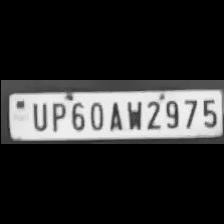0: (85, 98, 105, 130)
2: (142, 97, 162, 130)
5: (198, 96, 218, 130)
6: (66, 99, 86, 131)
7: (180, 96, 198, 130)
9: (160, 97, 180, 129)
A: (105, 98, 123, 130)
P: (46, 99, 66, 131)
U: (27, 99, 47, 131)
W: (122, 97, 142, 131)
